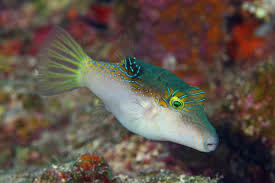hugu: (77, 9, 225, 157)
